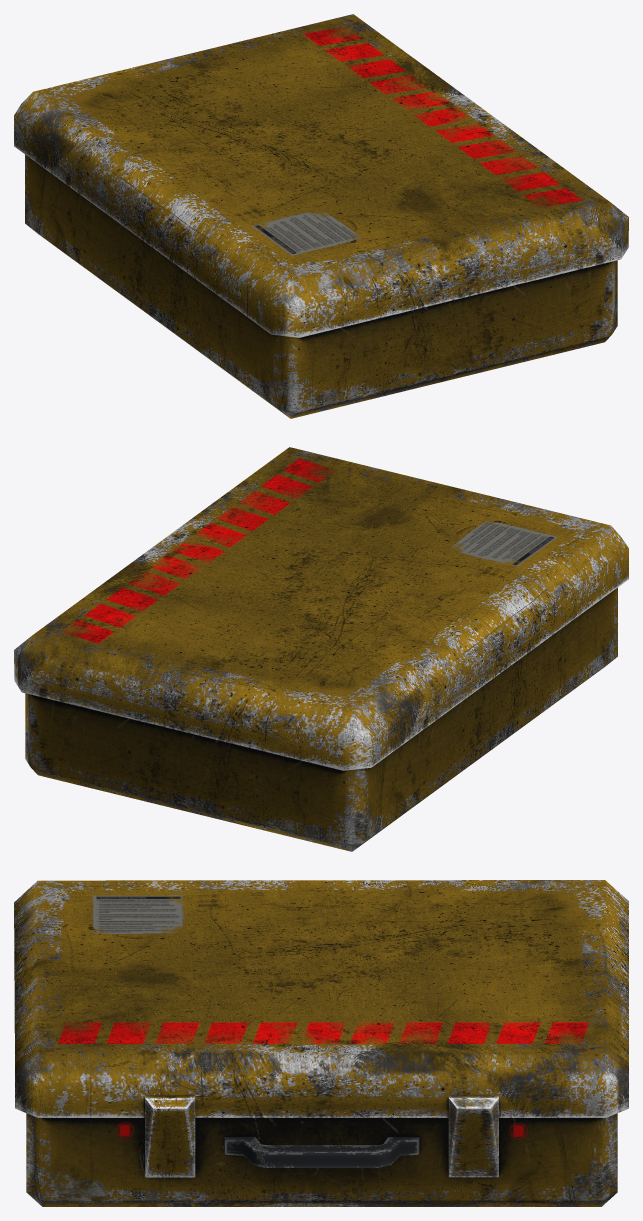
The model's file is Case.fbx.
The picture shows the model from 3 angles, top to bottom: view 1: azimuth 30°, elevation 25°; view 2: azimuth 150°, elevation 25°; view 3: azimuth 270°, elevation 25°; orthographic projection. The views are drawn at different scales.
Visible parts, largest first — view 1: Case; view 2: Case; view 3: Case.
Part boxes in pixels (x1,y1,x2,y2): Case: [14, 14, 628, 418]; Case: [14, 447, 628, 851]; Case: [14, 880, 628, 1206].
Bounding box in the file's own units: 38.39 × 13.74 × 49.08.
1 material, 1 textured.
